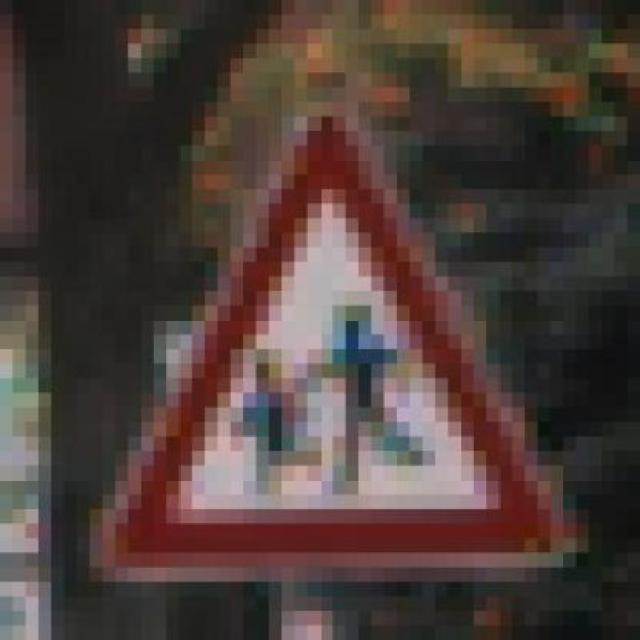Beware of children: (76, 87, 576, 582)
